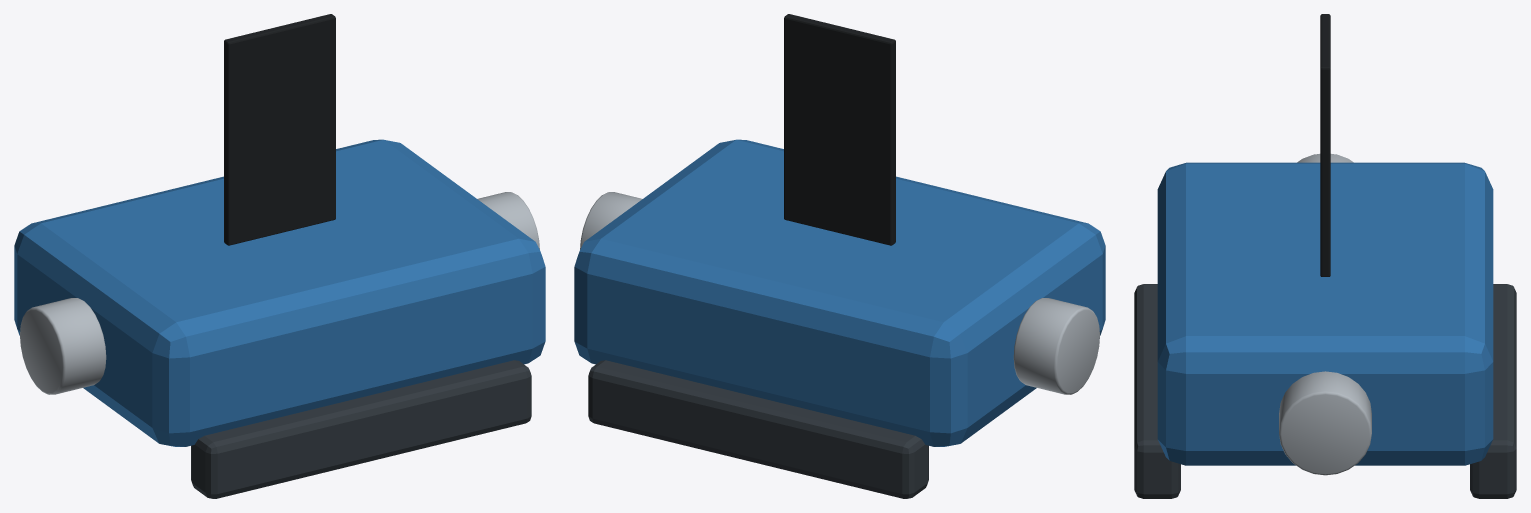
Rendered from Air_Track_Glider_A.fbx.
The picture shows the model from 3 angles, left to right: view 1: azimuth 30°, elevation 25°; view 2: azimuth 150°, elevation 25°; view 3: azimuth 270°, elevation 25°; orthographic projection. The views are drawn at different scales.
Parts seen in each view (by area): view 1: GliderBody, PhotogateFlag, TrackShoeLeft, RearAttachment, FrontAttachment; view 2: GliderBody, PhotogateFlag, TrackShoeRight, RearAttachment, FrontAttachment; view 3: GliderBody, FrontAttachment, TrackShoeLeft, TrackShoeRight, PhotogateFlag.
Boxes of the visible parts, bbox=[...] form: GliderBody: bbox=[14, 139, 545, 446]; PhotogateFlag: bbox=[224, 14, 335, 245]; TrackShoeLeft: bbox=[191, 360, 531, 498]; RearAttachment: bbox=[20, 298, 106, 394]; FrontAttachment: bbox=[477, 192, 539, 249]; GliderBody: bbox=[574, 139, 1105, 446]; PhotogateFlag: bbox=[784, 14, 895, 245]; TrackShoeRight: bbox=[588, 360, 928, 498]; RearAttachment: bbox=[1013, 298, 1099, 394]; FrontAttachment: bbox=[580, 192, 642, 249]; GliderBody: bbox=[1157, 162, 1493, 465]; FrontAttachment: bbox=[1279, 371, 1371, 475]; TrackShoeLeft: bbox=[1134, 284, 1180, 498]; TrackShoeRight: bbox=[1470, 284, 1516, 498]; PhotogateFlag: bbox=[1320, 14, 1330, 276].
Size of the model in its own units: 0.22 by 0.1625 by 0.148.
